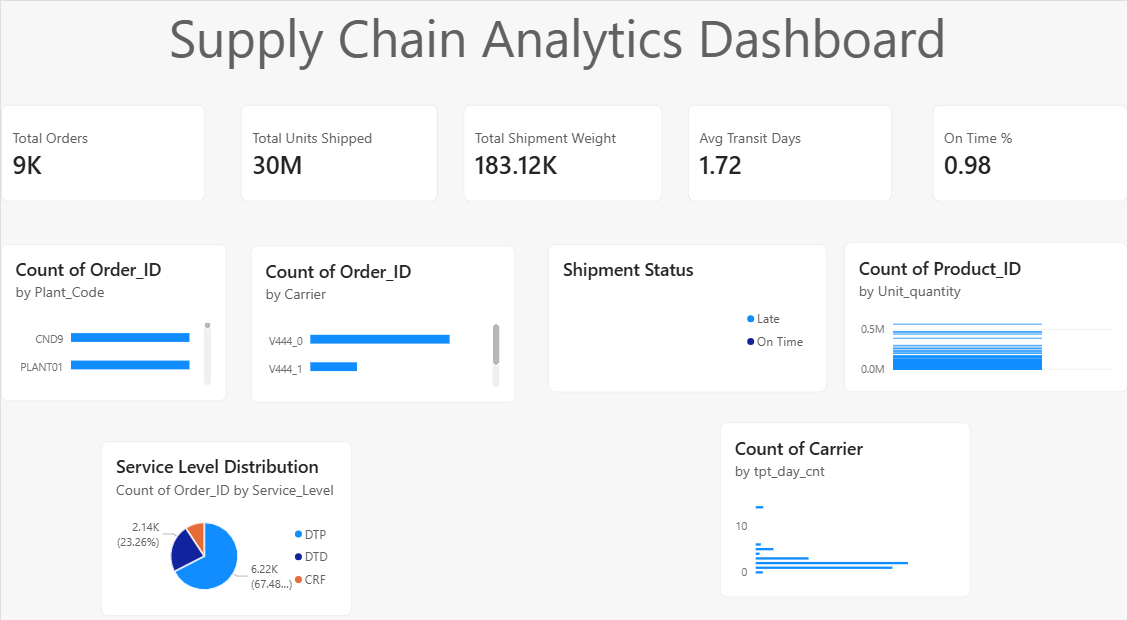

The dashboard page shown, as its layout file describes it:
{"tool":"powerbi","page":{"name":"Page 1","canvas":[1280,720],"ordinal":0},"visuals":[{"type":"cardVisual","fields":{"Data":["FreightRates.Total Orders"]},"box":[0,118,232,110],"z":0},{"type":"cardVisual","fields":{"Data":["OrderList.Total Shipment Weight"]},"box":[526,118,226,110],"z":1},{"type":"cardVisual","fields":{"Data":["OrderList.Total Units Shipped"]},"box":[272,118,224,110],"z":2},{"type":"cardVisual","fields":{"Data":["OrderList.Avg Transit Days"]},"box":[780,118,232,110],"z":3},{"type":"cardVisual","fields":{"Data":["OrderList.On Time %"]},"box":[1058,118,222,110],"z":4},{"type":"barChart","fields":{"Category":["ProductsPerPlant.Plant_Code"],"Y":["CountNonNull(OrderList.Order_ID)"]},"box":[0,276,256,178],"z":5},{"type":"barChart","fields":{"Category":["OrderList.Carrier"],"Y":["CountNonNull(OrderList.Order_ID)"]},"box":[284,278,300,178],"z":6},{"type":"donutChart","fields":{"Category":["OrderList.Shipment Status"]},"box":[622,276,316,168],"z":7},{"type":"clusteredBarChart","fields":{"Category":["OrderList.Unit_quantity"],"Y":["CountNonNull(ProductsPerPlant.Product_ID)"]},"box":[958,274,322,170],"z":8},{"type":"pieChart","title":"Service Level Distribution","fields":{"Category":["OrderList.Service_Level"],"Y":["CountNonNull(OrderList.Order_ID)"]},"box":[114,500,284,198],"z":9},{"type":"barChart","fields":{"Category":["FreightRates.tpt_day_cnt"],"Y":["CountNonNull(FreightRates.Carrier)"]},"box":[816,478,284,198],"z":10},{"type":"textbox","box":[0,0,1264,78],"z":11}]}

Visuals, with their boxes in screenshot pixels (x1, y1, x2, y2), scaled from the page's 1280x720 canvas onto the 1127x620 screenshot:
cardVisual - FreightRates.Total Orders: rect(0, 102, 204, 196)
cardVisual - OrderList.Total Shipment Weight: rect(463, 102, 662, 196)
cardVisual - OrderList.Total Units Shipped: rect(239, 102, 437, 196)
cardVisual - OrderList.Avg Transit Days: rect(687, 102, 891, 196)
cardVisual - OrderList.On Time %: rect(932, 102, 1126, 196)
barChart - ProductsPerPlant.Plant_Code x CountNonNull(OrderList.Order_ID): rect(0, 238, 225, 391)
barChart - OrderList.Carrier x CountNonNull(OrderList.Order_ID): rect(250, 239, 514, 393)
donutChart - OrderList.Shipment Status: rect(548, 238, 826, 382)
clusteredBarChart - OrderList.Unit_quantity x CountNonNull(ProductsPerPlant.Product_ID): rect(843, 236, 1126, 382)
"Service Level Distribution" pieChart: rect(100, 431, 350, 601)
barChart - FreightRates.tpt_day_cnt x CountNonNull(FreightRates.Carrier): rect(718, 412, 969, 582)
textbox: rect(0, 0, 1113, 67)
